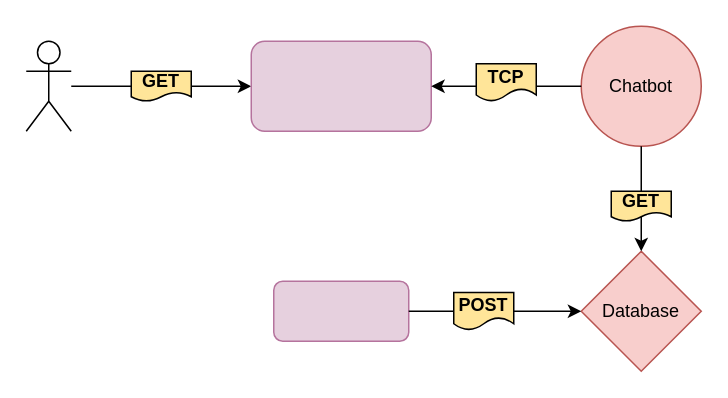
Image size: 728x398. Some labels were removed from this diagram. Here are the shapes that lost their labels. From the top down, the box of each, then its label:
(25, 40, 71, 131): User
(250, 40, 431, 131): WebUI
(272, 280, 409, 341): Web Scraper
